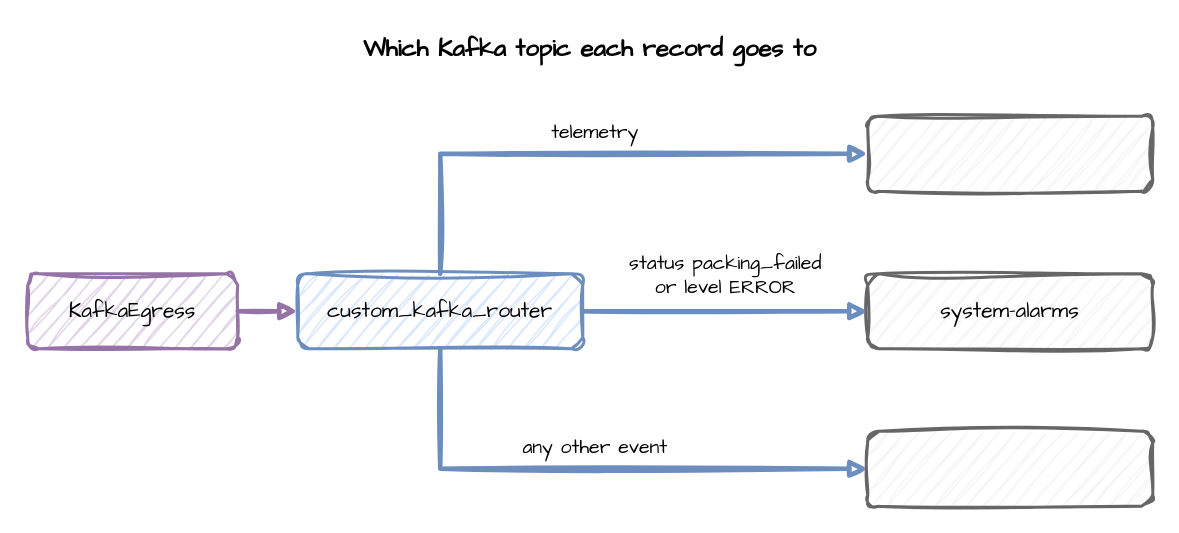
The diagram is 1179 pixels wide and 533 high, and some of its shapes have lost their labels. Here are the shapes that lost their labels. From the top down, the box of each, then its label:
(866, 114, 1154, 192): shop-telemetry
(866, 429, 1154, 507): shop-events
